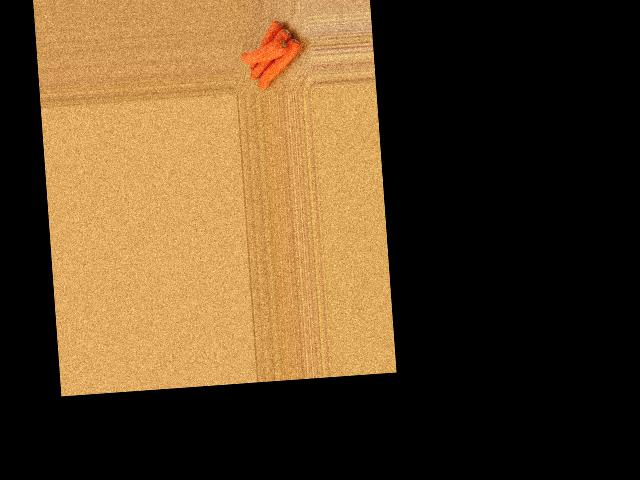carrot: (249, 15, 286, 58)
